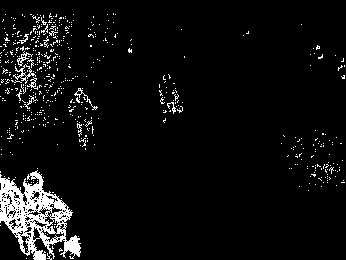person: (21, 170, 83, 260), (70, 84, 102, 150), (159, 71, 185, 124)
